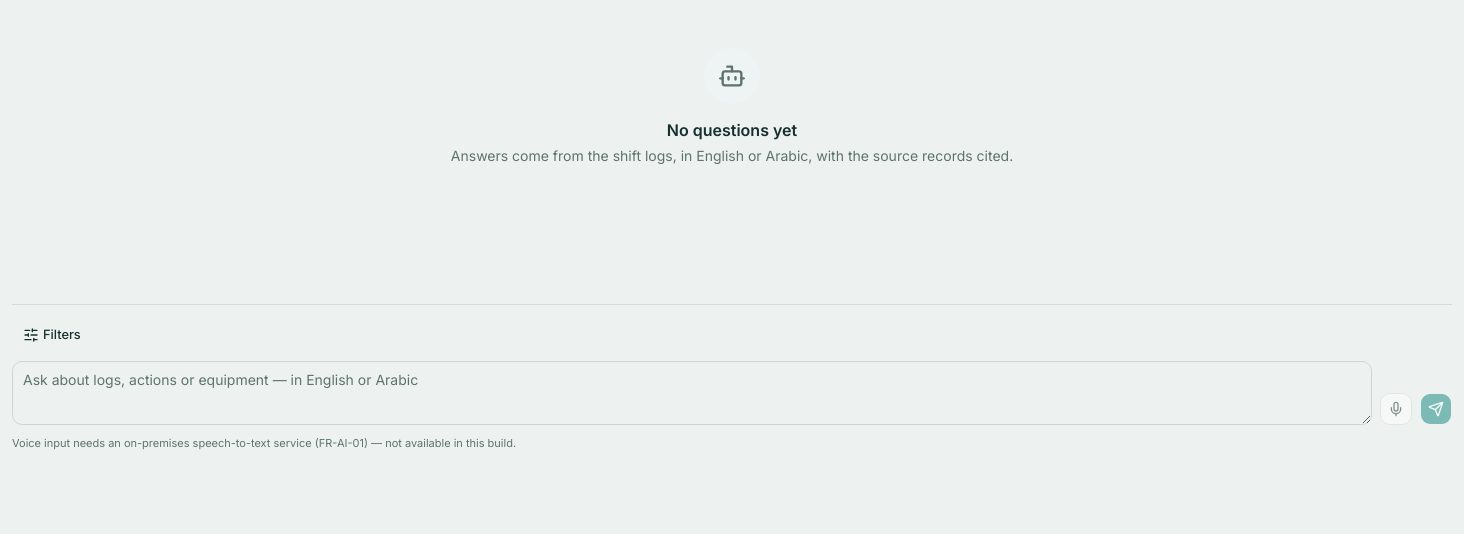
Test: AssistantChat › warns above the answer when the server flags low confidence
The image size is (1464, 534).
Type "Something unmatched" into the text box named "Ask the assistant" at {"x": 692, "y": 393}, box [12,361,1372,425]
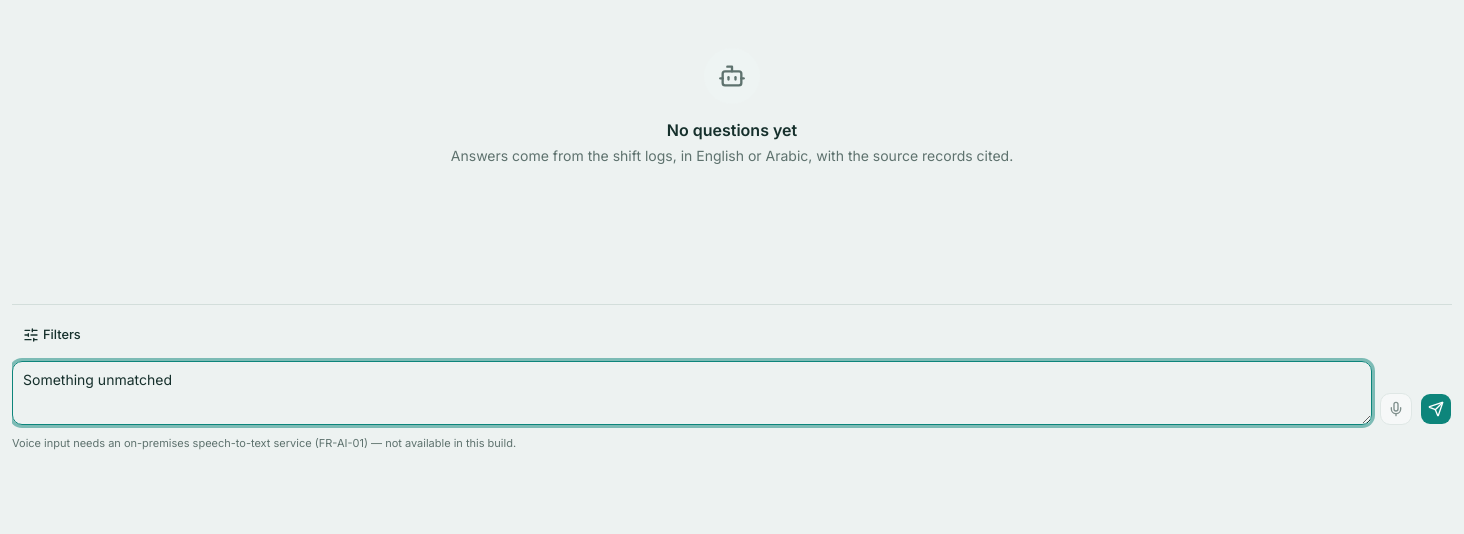
Click the button named "Send question" at {"x": 1436, "y": 409}, box [1420,393,1452,425]
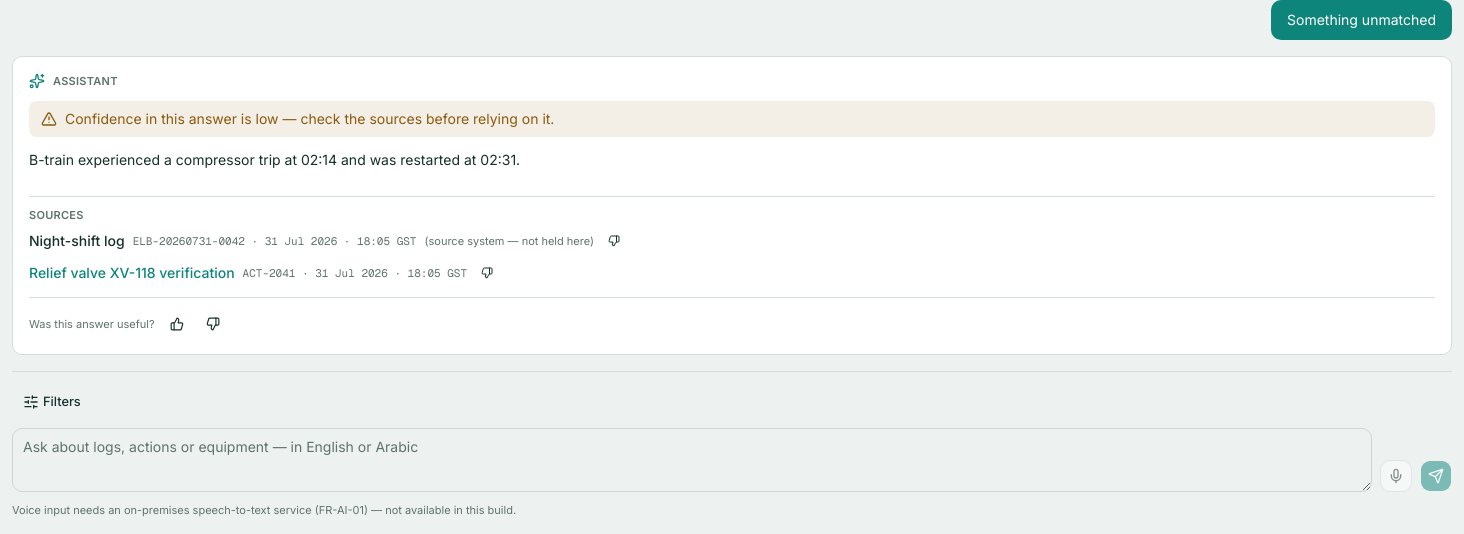
Expected: the text "Confidence in this answer is low" is shown, [65,110,554,127]
